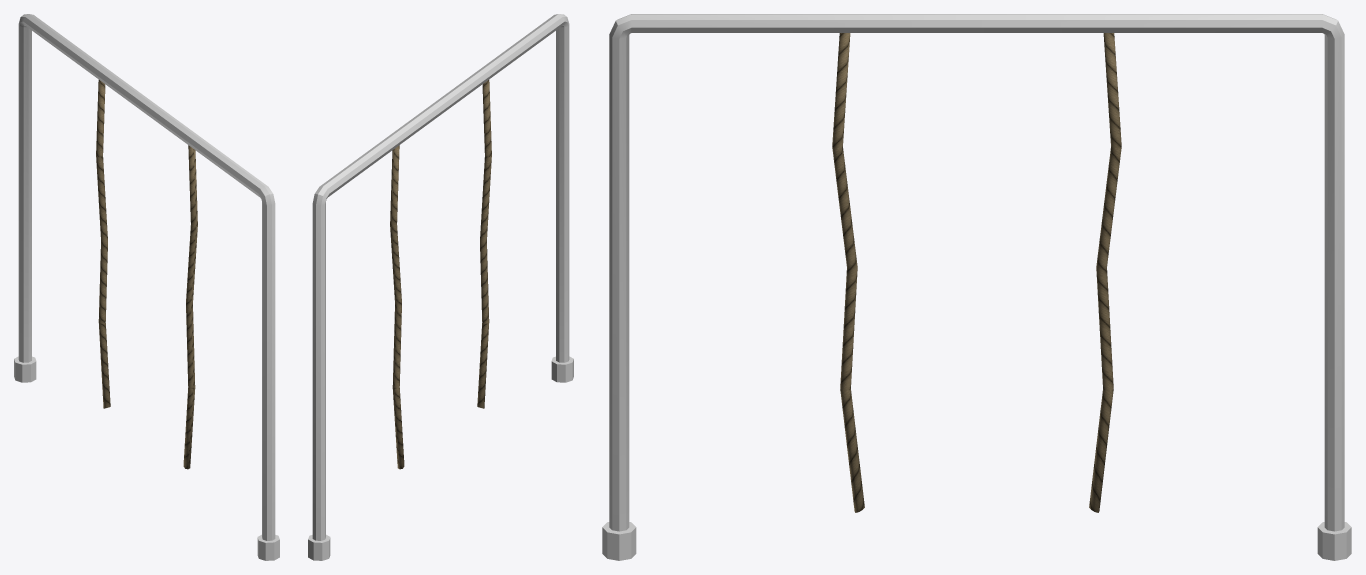
Rendered from moving_jump.fbx.
The picture shows the model from 3 angles, left to right: view 1: azimuth 30°, elevation 25°; view 2: azimuth 150°, elevation 25°; view 3: azimuth 270°, elevation 25°; orthographic projection. The views are drawn at different scales.
Visible parts, largest first — view 1: Cylinder, Cylinder.004; view 2: Cylinder, Cylinder.004; view 3: Cylinder, Cylinder.004.
Part boxes in pixels (x1,y1,x2,y2): Cylinder: (14, 14, 279, 560); Cylinder.004: (96, 80, 197, 469); Cylinder: (308, 14, 573, 560); Cylinder.004: (390, 80, 491, 469); Cylinder: (602, 14, 1351, 560); Cylinder.004: (832, 33, 1121, 512).
Size of the model in its own units: 18.97 by 333 by 419.
2 materials, 1 textured.
